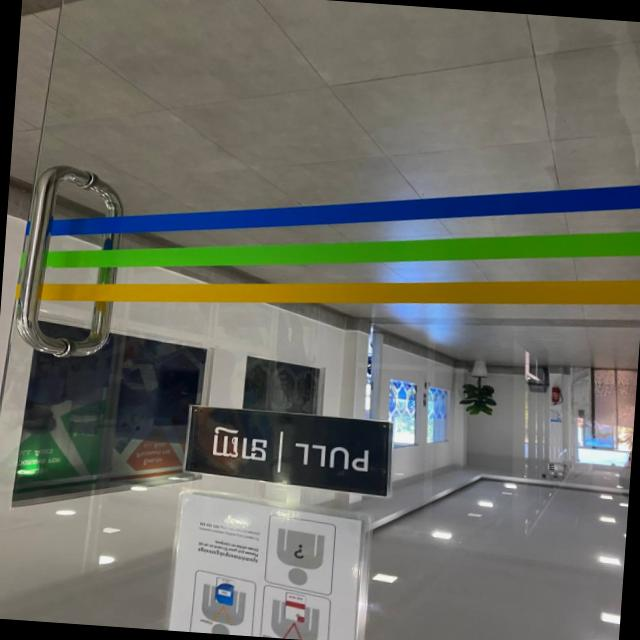Yolov11kh: (206, 421, 275, 471)
